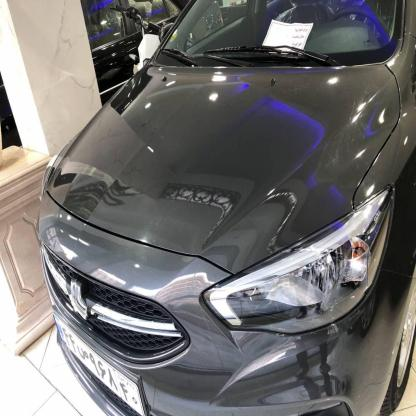Car: (32, 0, 416, 416)
